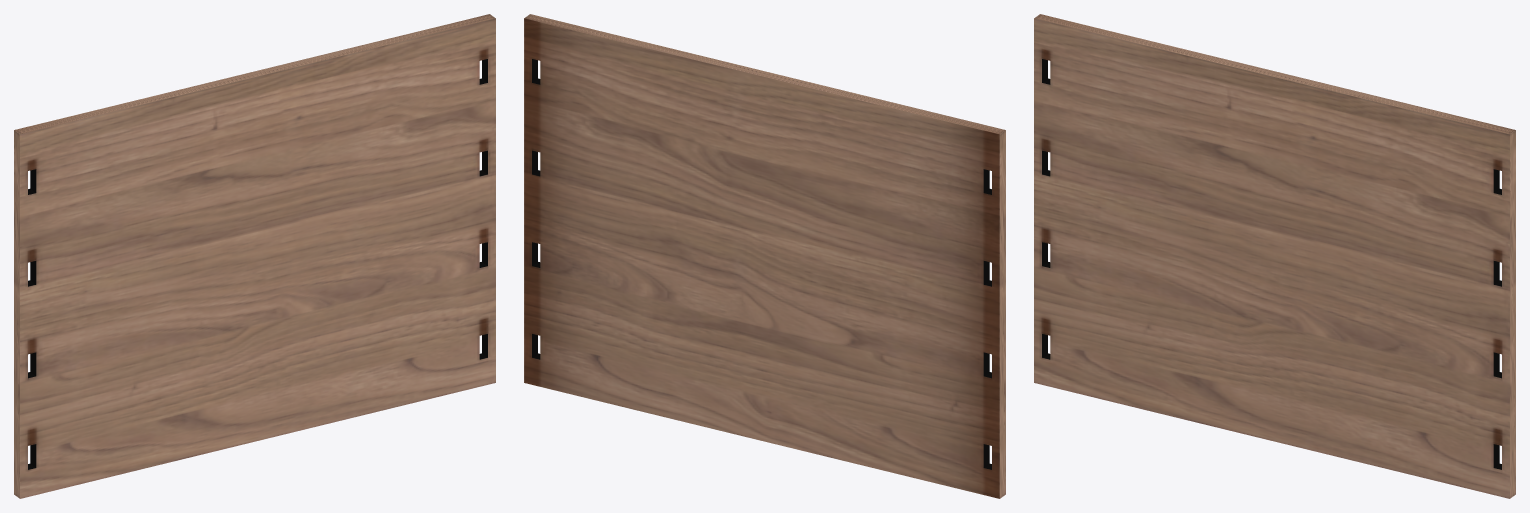
File: unit_large_small.glb
3 views of the same model, side by side, from view 1: azimuth 30°, elevation 25°; view 2: azimuth 150°, elevation 25°; view 3: azimuth 330°, elevation 25° (orthographic).
Visible parts, largest first — view 1: m_large_panel; view 2: m_large_panel; view 3: m_large_panel.
Boxes of the visible parts, bbox=[...] form: m_large_panel: bbox=[14, 14, 495, 498]; m_large_panel: bbox=[524, 14, 1005, 498]; m_large_panel: bbox=[1034, 14, 1515, 498].
Bounding box in the file's own units: 0.9581 × 0.7014 × 0.0211.
1 material, 1 textured.
